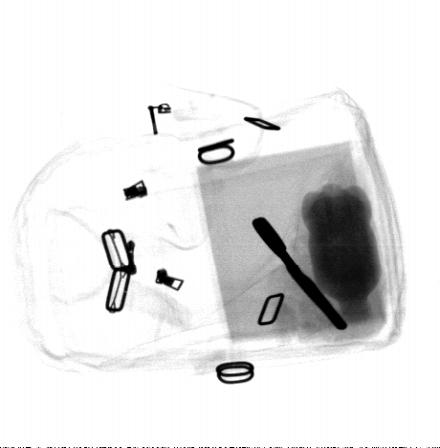Pliers: (251, 214, 350, 331)
